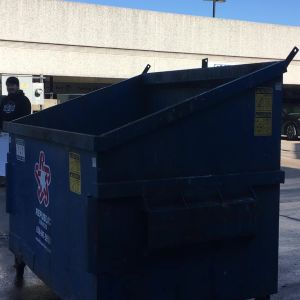Dumpster: (1, 37, 299, 300)
